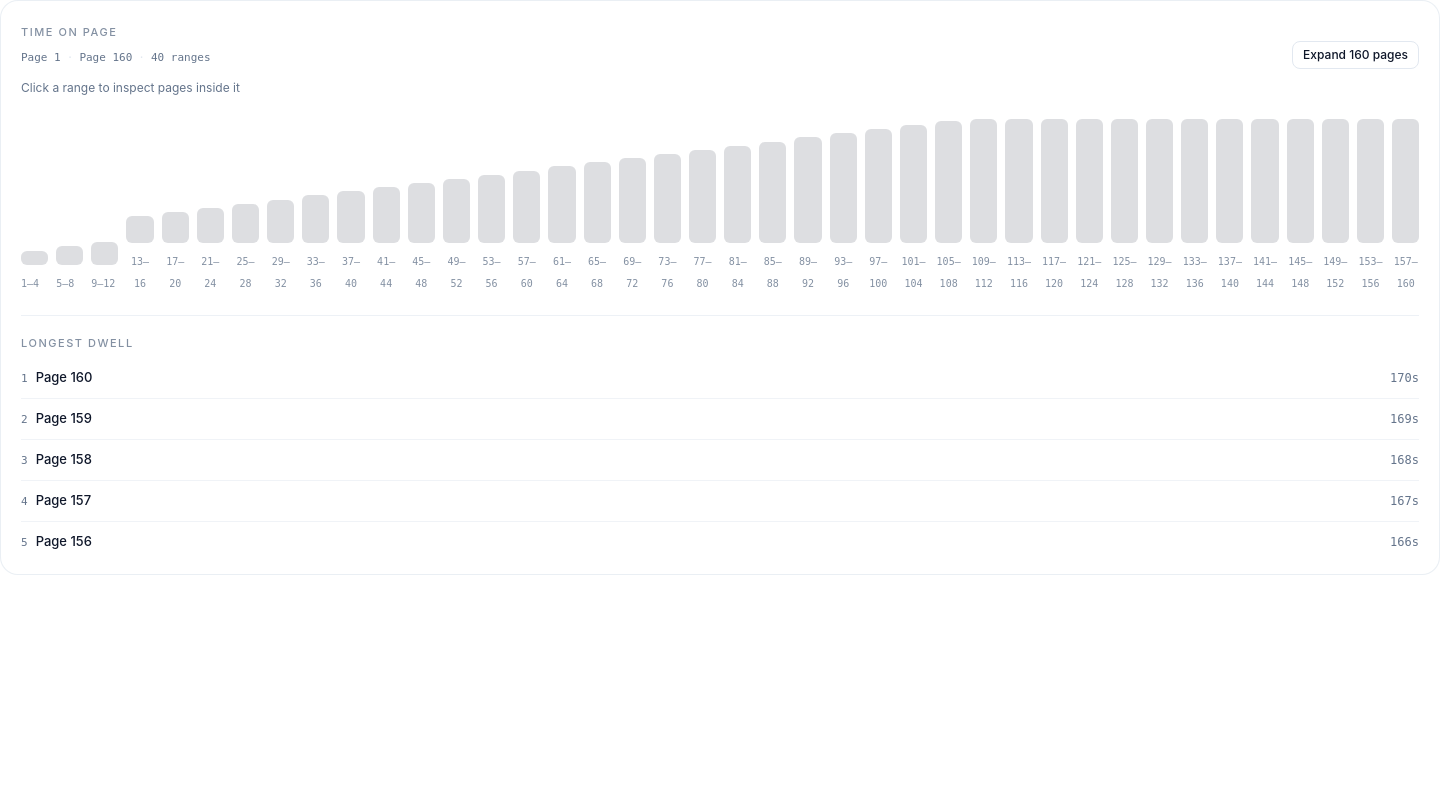
Scenario: DocumentAnalytics › detail expands bucketed long docs to per-page scroll
Click the button with test id "document-analytics-expand".
click(1356, 55)  # box [1292,41,1419,69]
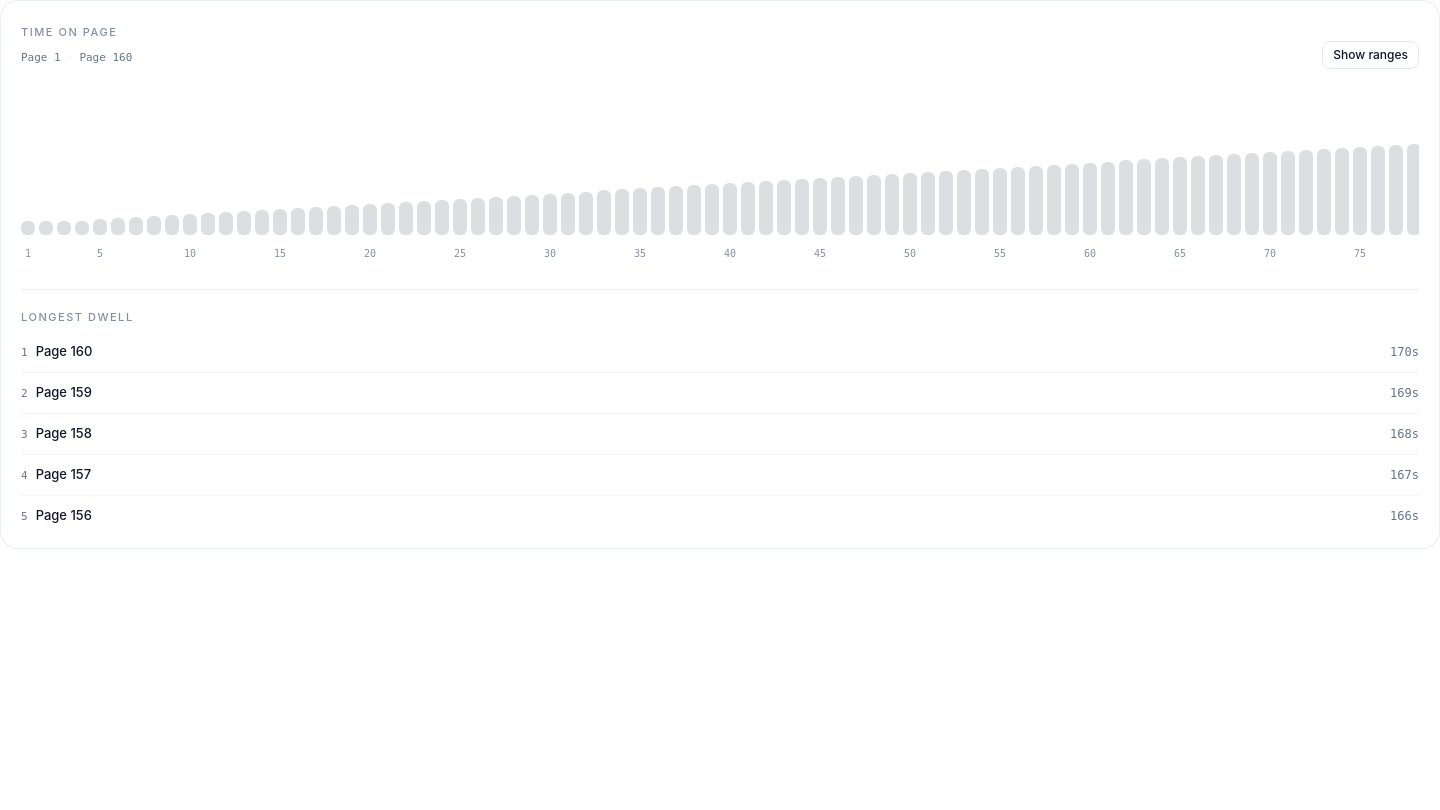
Now the button "Show ranges" is shown, box [1322,41,1419,69]
